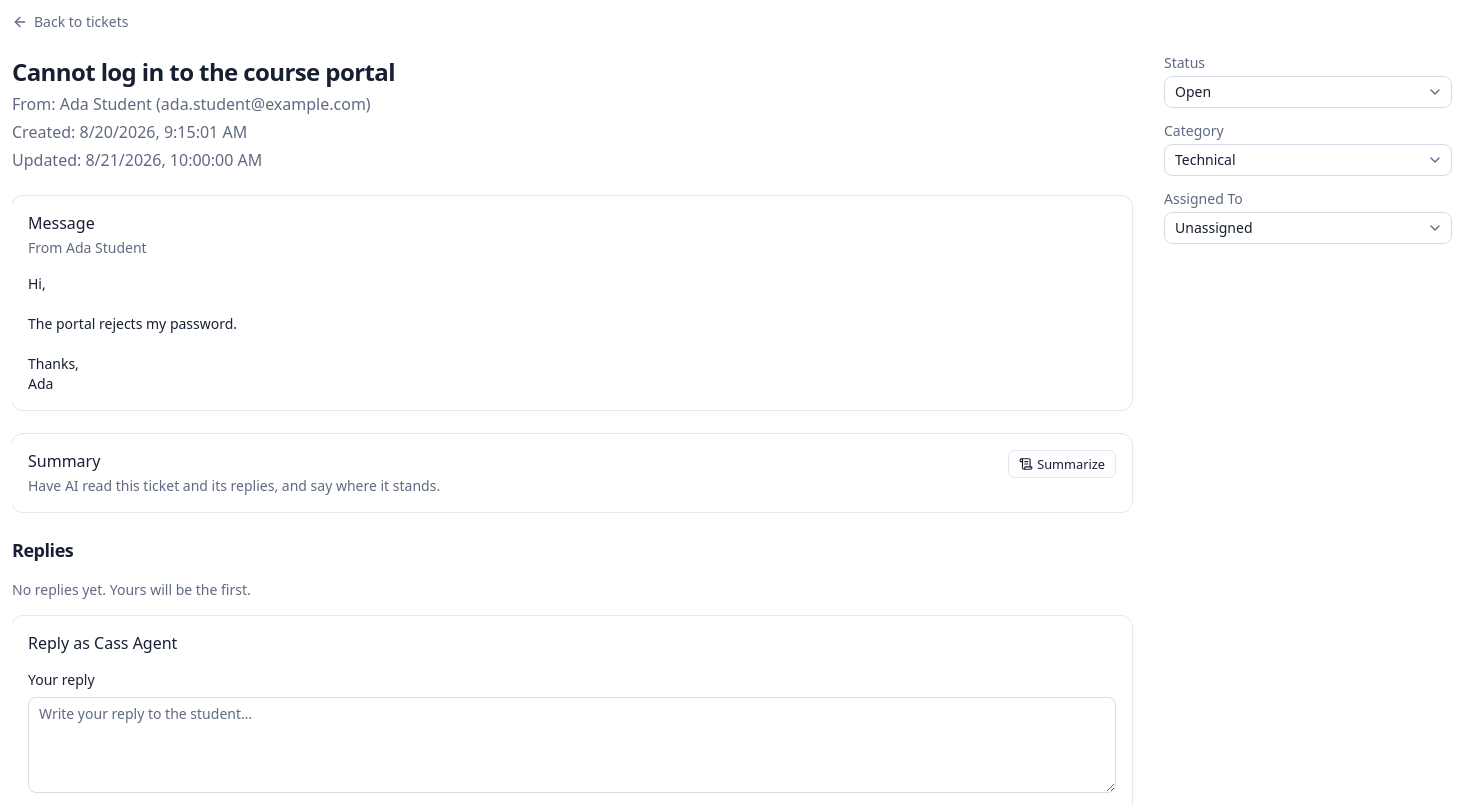
Scenario: TicketDetailPage › assignment › marks your own row as yours
Expected: the heading "Cannot log in to the course portal" is shown, [12,55,395,88]
Click the dropdown named "assigned to" at (1214, 228), box [1164,212,1452,244]
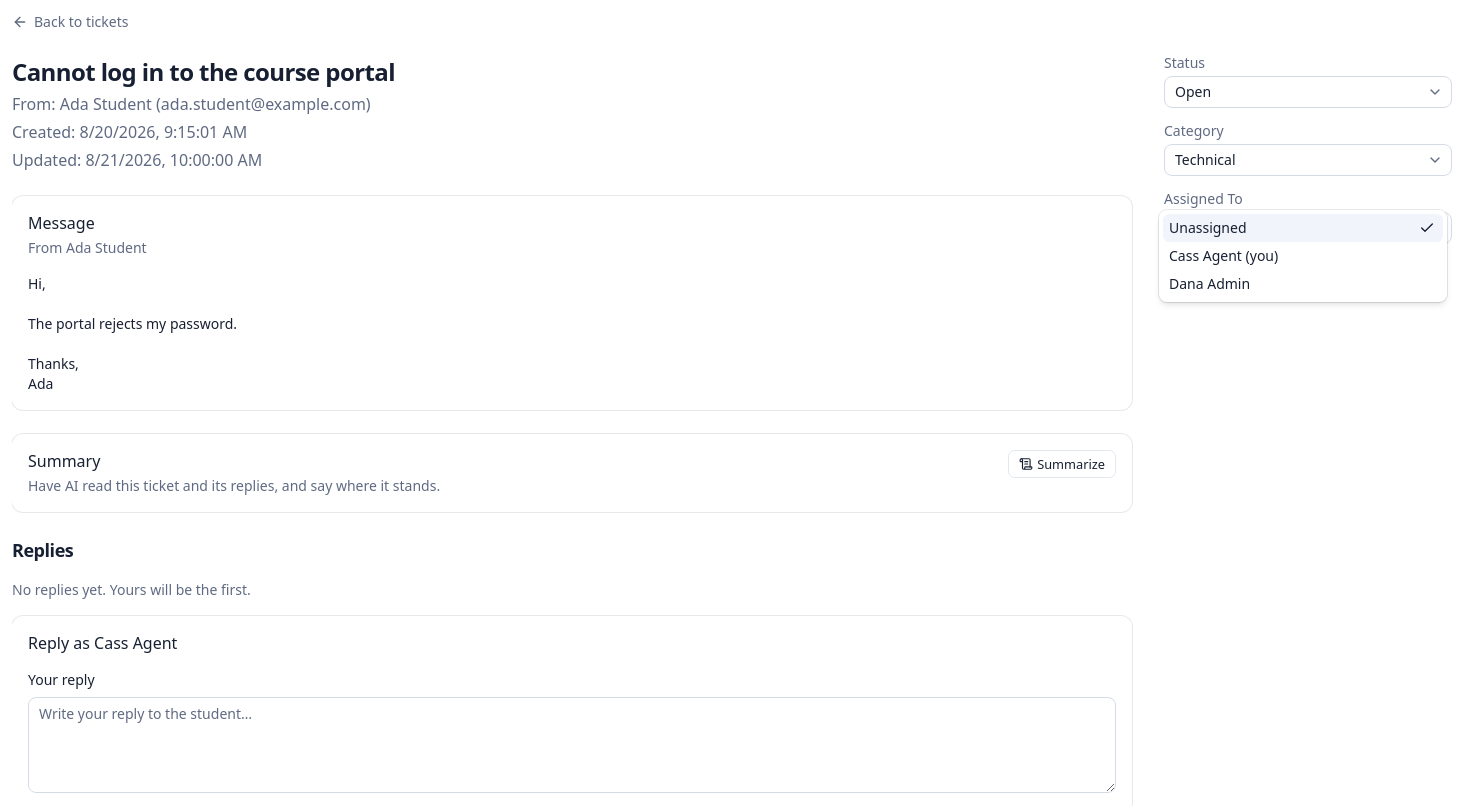
Expected: the option "Cass Agent (you)" is shown, [1169,246,1278,265]
Expected: the option "Dana Admin" is shown, [1169,274,1250,293]
